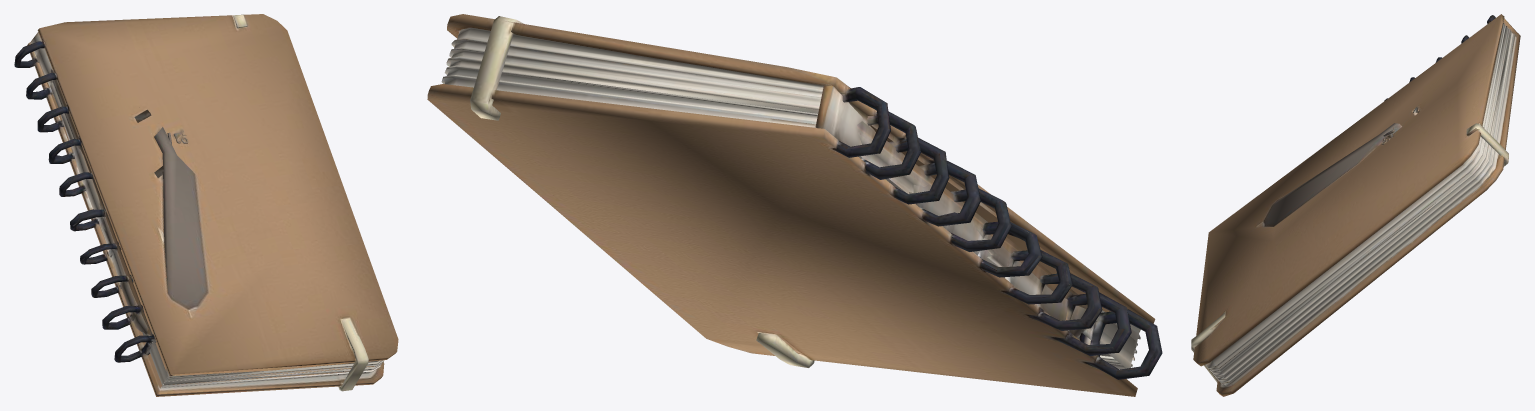
3 views of the same model, side by side, from view 1: azimuth 30°, elevation 25°; view 2: azimuth 150°, elevation 25°; view 3: azimuth 270°, elevation 25° (orthographic). The views are drawn at different scales.
Parts seen in each view (by area): view 1: tripo_node_22682bc5-4ac5-49b3-8135-aa8af4211c05; view 2: tripo_node_22682bc5-4ac5-49b3-8135-aa8af4211c05; view 3: tripo_node_22682bc5-4ac5-49b3-8135-aa8af4211c05.
Part boxes in pixels (box(x1,y1,x2,y2)): tripo_node_22682bc5-4ac5-49b3-8135-aa8af4211c05: box(14, 14, 398, 396); tripo_node_22682bc5-4ac5-49b3-8135-aa8af4211c05: box(427, 14, 1162, 396); tripo_node_22682bc5-4ac5-49b3-8135-aa8af4211c05: box(1191, 14, 1520, 396).
Size of the model in its own units: 0.9355 by 0.9707 by 0.998.
1 material, 1 textured.
